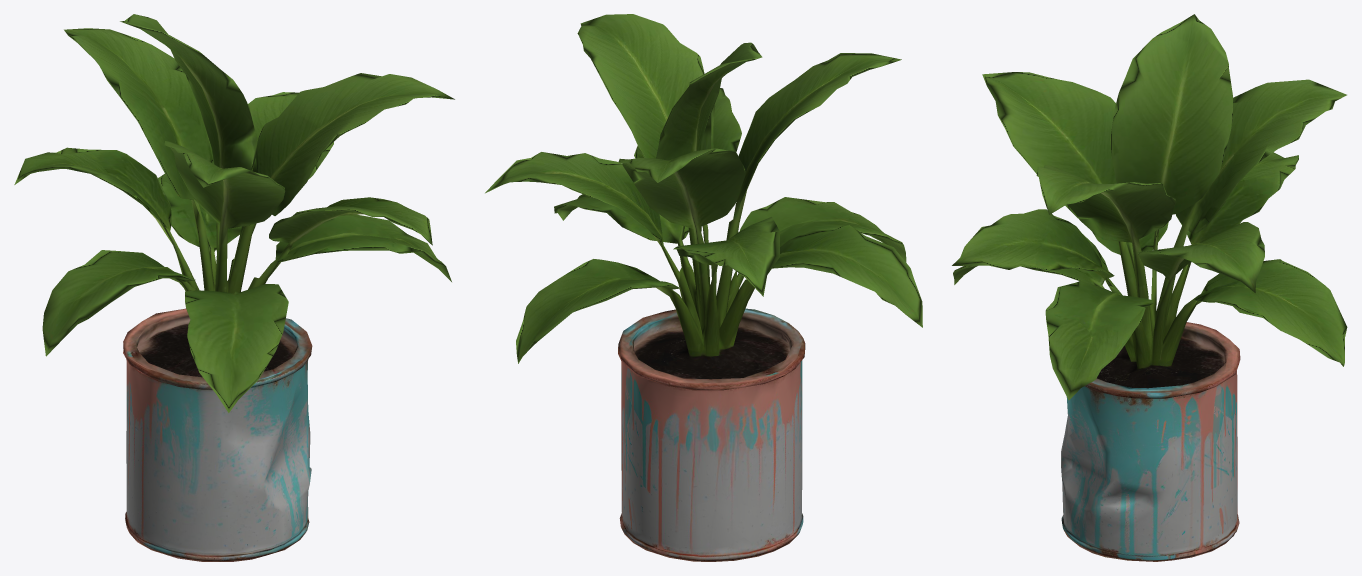
Rendered from mata.glb.
3 views of the same model, side by side, from view 1: azimuth 30°, elevation 25°; view 2: azimuth 150°, elevation 25°; view 3: azimuth 270°, elevation 25° (orthographic). The views are drawn at different scales.
Parts seen in each view (by area): view 1: tripo_node_adb95608-e5c4-41a4-b329-6126cce1b486; view 2: tripo_node_adb95608-e5c4-41a4-b329-6126cce1b486; view 3: tripo_node_adb95608-e5c4-41a4-b329-6126cce1b486.
Part boxes in pixels (x1,y1,x2,y2): tripo_node_adb95608-e5c4-41a4-b329-6126cce1b486: [14, 14, 454, 561]; tripo_node_adb95608-e5c4-41a4-b329-6126cce1b486: [485, 14, 922, 561]; tripo_node_adb95608-e5c4-41a4-b329-6126cce1b486: [952, 14, 1347, 561].
Size of the model in its own units: 0.3578 by 0.45 by 0.3375.
Materials: 1 (1 with a texture image).
